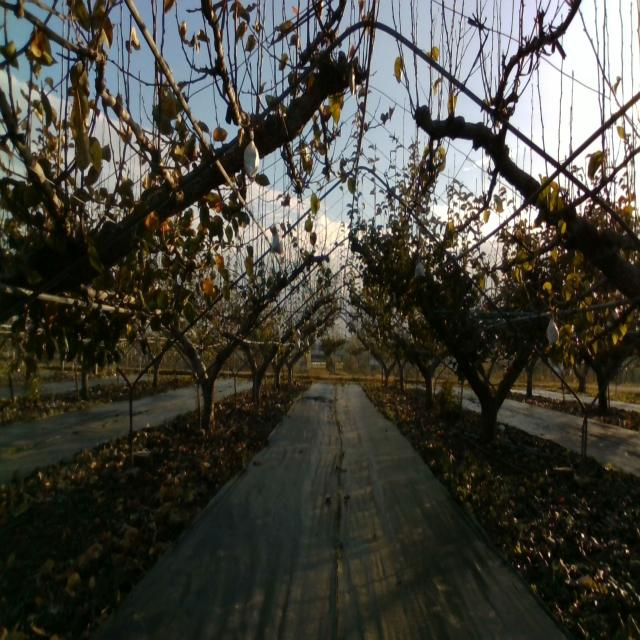pearbags: (243, 130, 260, 182), (270, 229, 284, 255), (547, 318, 559, 345), (413, 260, 426, 280)
